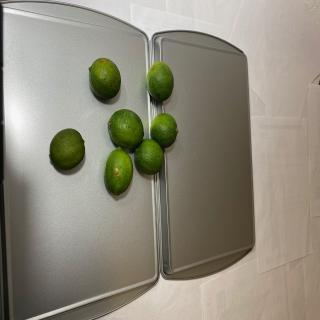Lemon: (104, 146, 134, 196), (108, 109, 144, 149), (88, 58, 121, 100), (134, 138, 164, 176), (146, 62, 174, 102), (150, 113, 178, 148)
